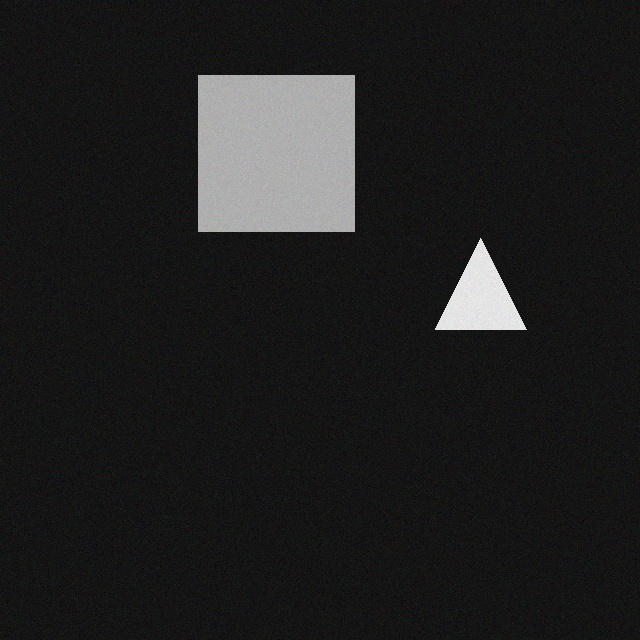square: (212, 86, 368, 242)
triangle: (449, 249, 540, 340)
